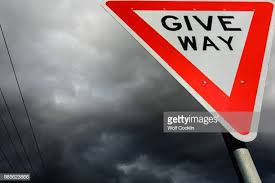giveway: (100, 1, 275, 139), (102, 1, 275, 94), (161, 1, 272, 142), (155, 1, 275, 115), (120, 1, 193, 113), (226, 1, 274, 108)
